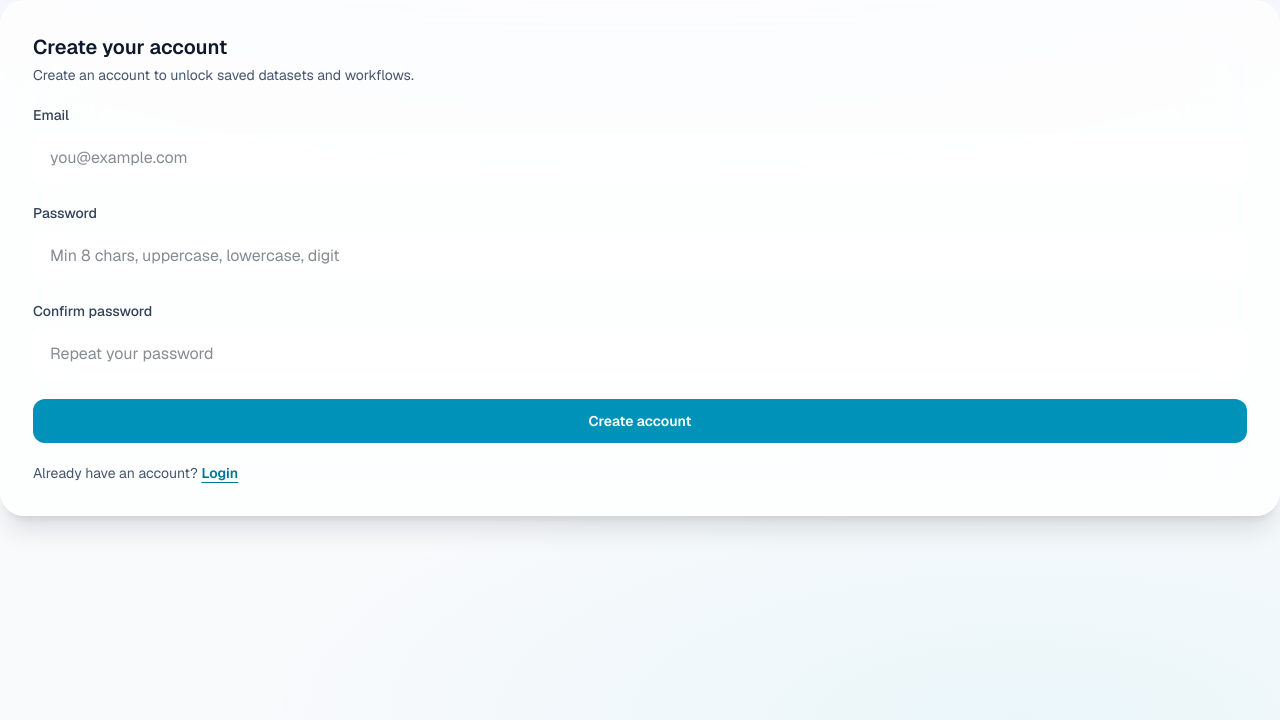
it: RegisterForm › shows a validation error when the password is too short
This screenshot has width=1280, height=720.
In the field labelled "Email": (640, 158) [33,133,1247,183], type "new-user@example.com"
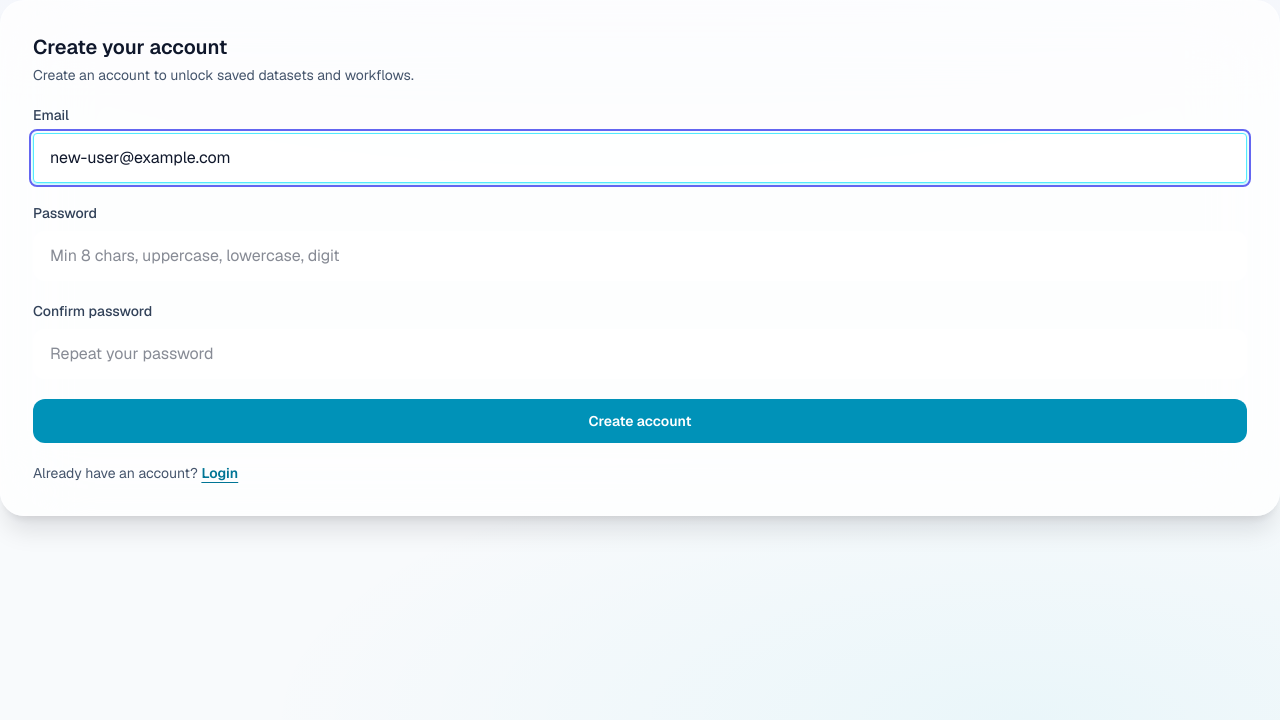
In the password field labelled "Password": (640, 256) [33,231,1247,281], type "short"
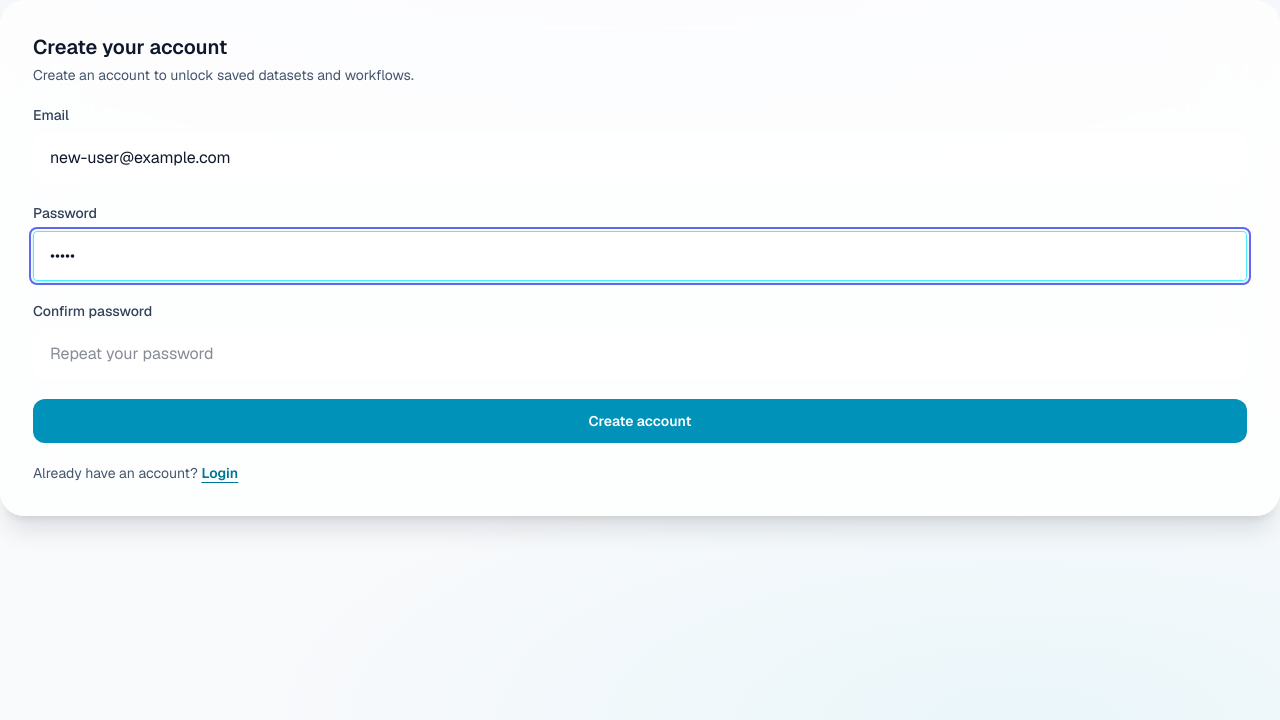
In the password field labelled "Confirm password": (640, 354) [33,329,1247,379], type "short"
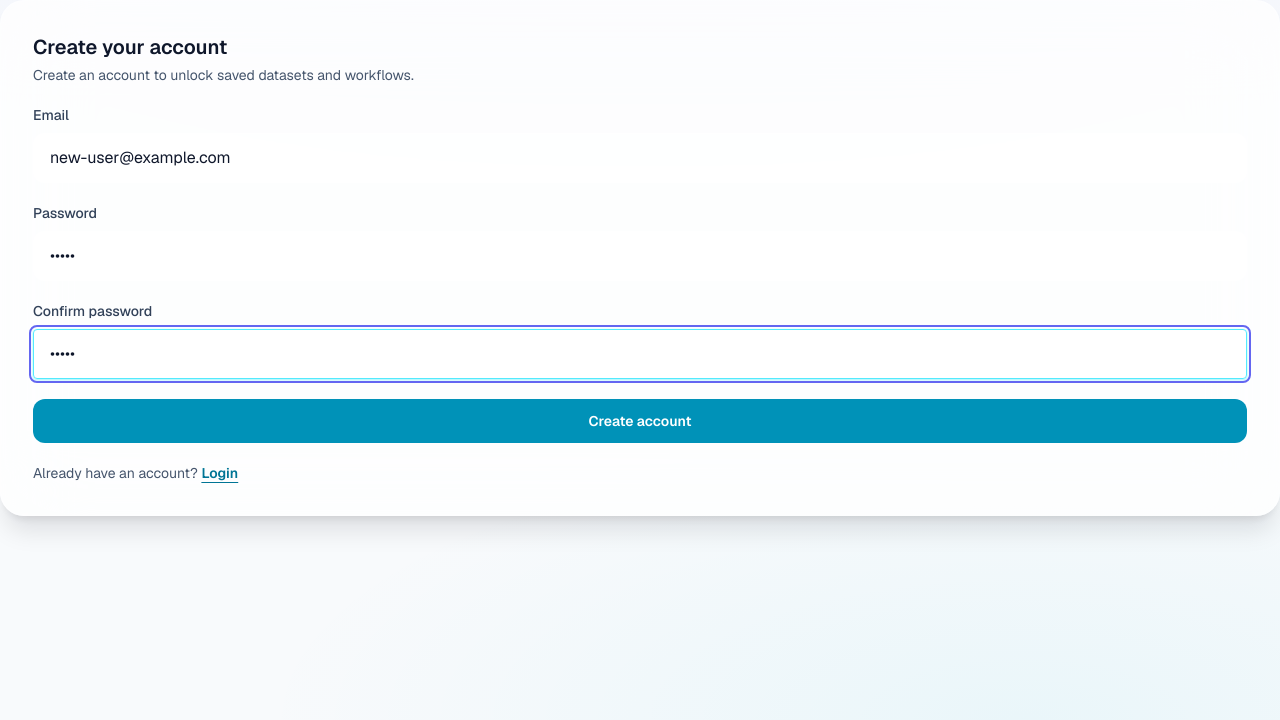
Click the button "Create account": (640, 421) [33,399,1247,443]
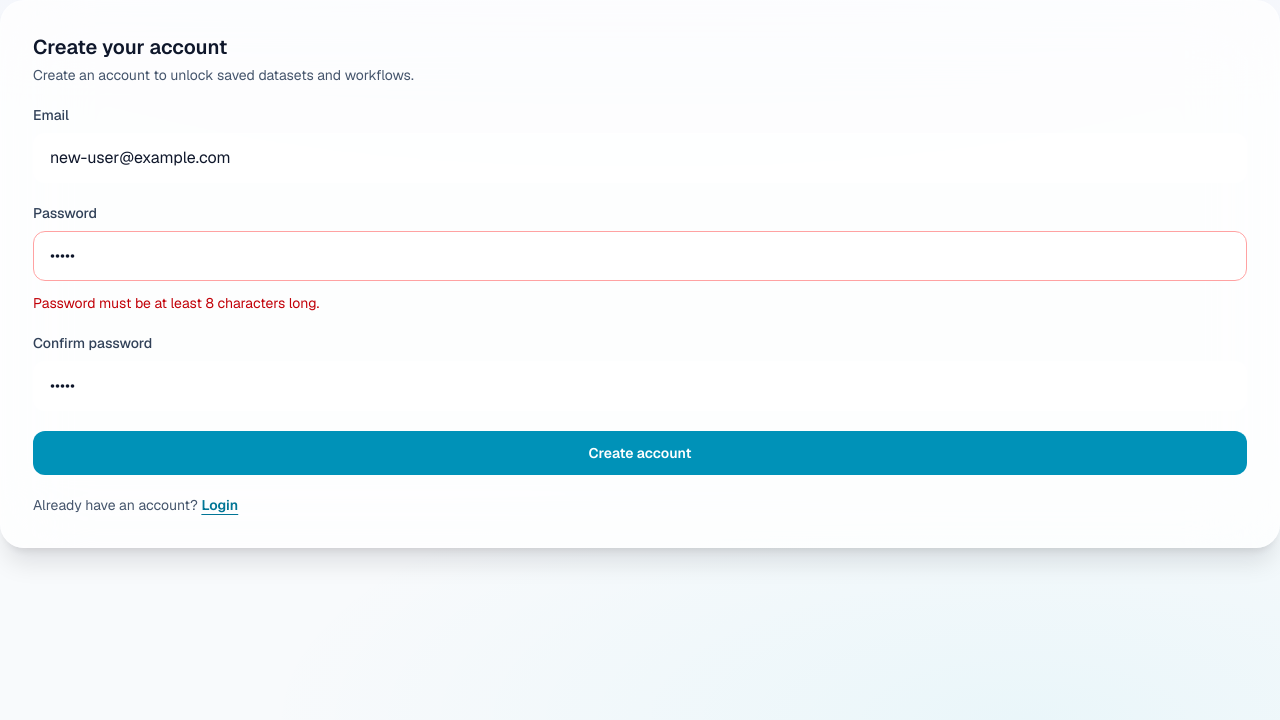
Result: the message reads "Password must be at least 8 characters long." at [33,294,319,312]
